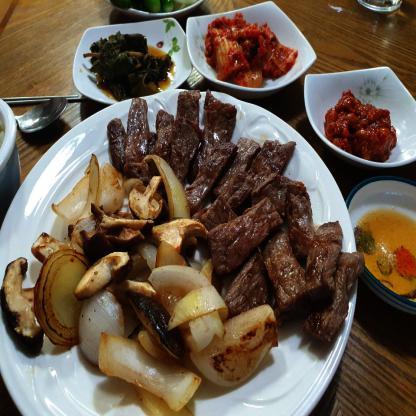Carne: (212, 194, 283, 276), (302, 250, 364, 332), (242, 138, 298, 215), (262, 235, 316, 311), (304, 221, 348, 305), (184, 139, 237, 206), (173, 83, 204, 181), (202, 104, 236, 190), (221, 259, 271, 313), (282, 180, 309, 252), (126, 93, 150, 173), (228, 140, 263, 193), (155, 110, 179, 160), (112, 118, 132, 170)
